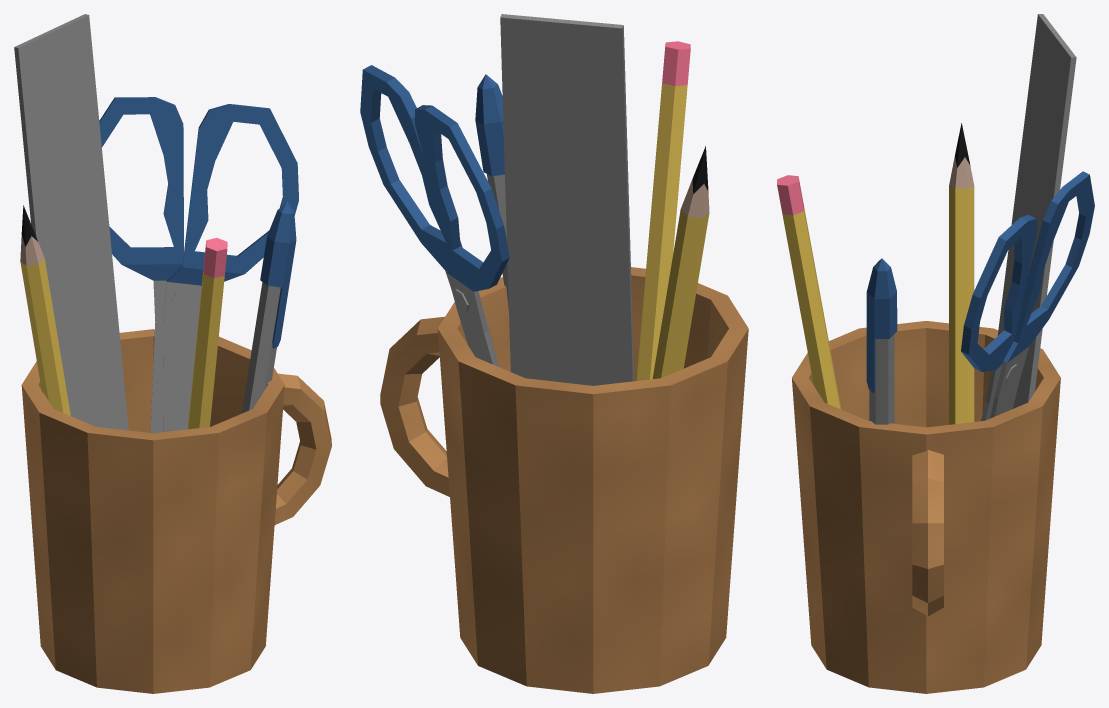
File: m_mugwood.glb
3 views of the same model, side by side, from view 1: azimuth 30°, elevation 25°; view 2: azimuth 150°, elevation 25°; view 3: azimuth 270°, elevation 25° (orthographic). The views are drawn at different scales.
Parts seen in each view (by area): view 1: Mug with office tools; view 2: Mug with office tools; view 3: Mug with office tools.
Part boxes in pixels (box(x1,y1,x2,y2)): Mug with office tools: box(14, 14, 331, 693); Mug with office tools: box(360, 14, 748, 693); Mug with office tools: box(777, 14, 1094, 693).
Bounding box in the file's own units: 0.1057 × 0.1991 × 0.097.
Materials: 1 (1 with a texture image).
